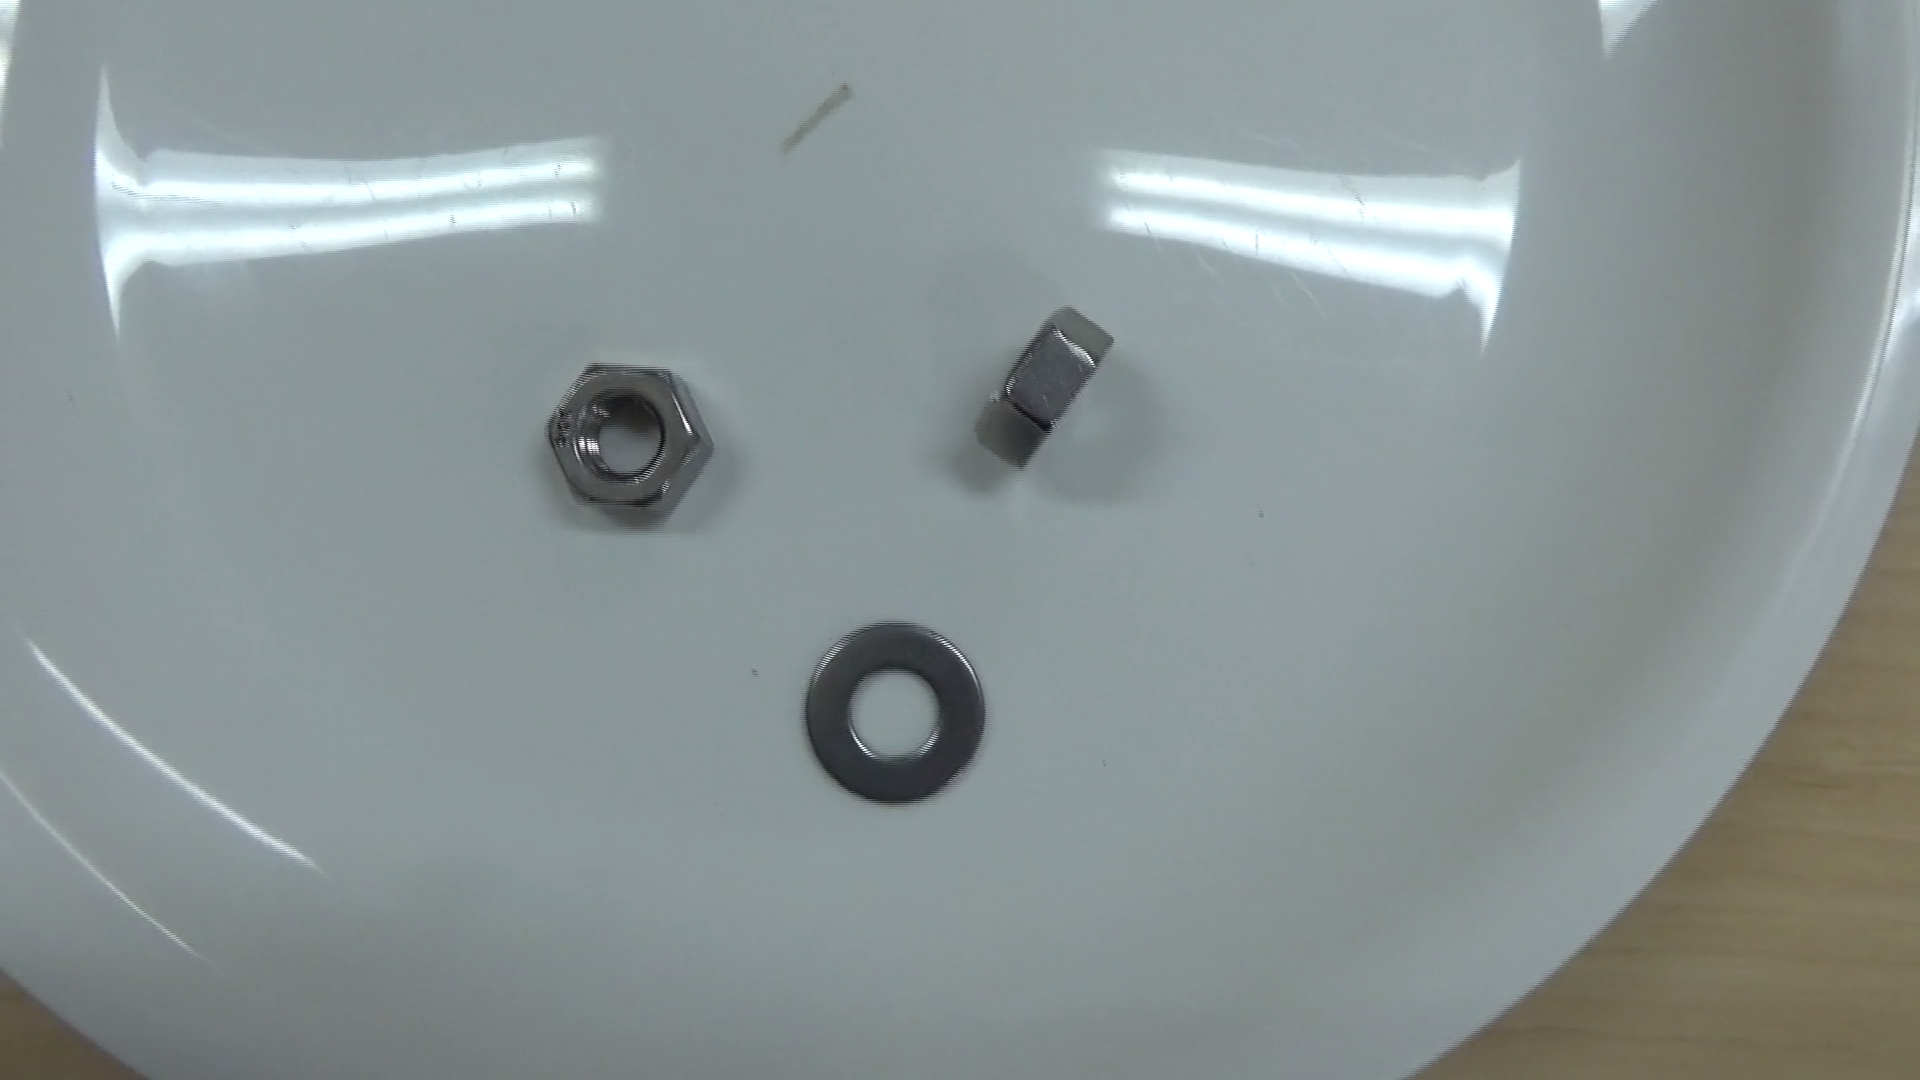nut: (531, 349, 719, 534), (960, 293, 1127, 480)
washer: (793, 612, 998, 814)
